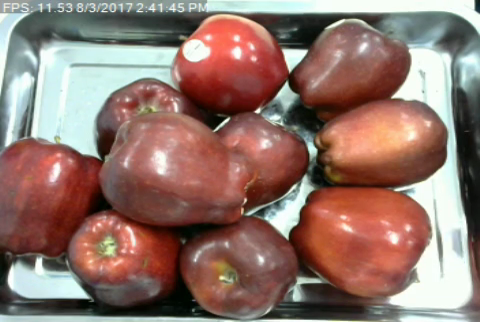Apple: (96, 109, 257, 228), (287, 183, 435, 298), (0, 133, 106, 261), (178, 212, 301, 322), (285, 16, 415, 119), (311, 95, 450, 189), (171, 10, 291, 117), (65, 208, 181, 307), (212, 106, 310, 212), (92, 75, 205, 155)
